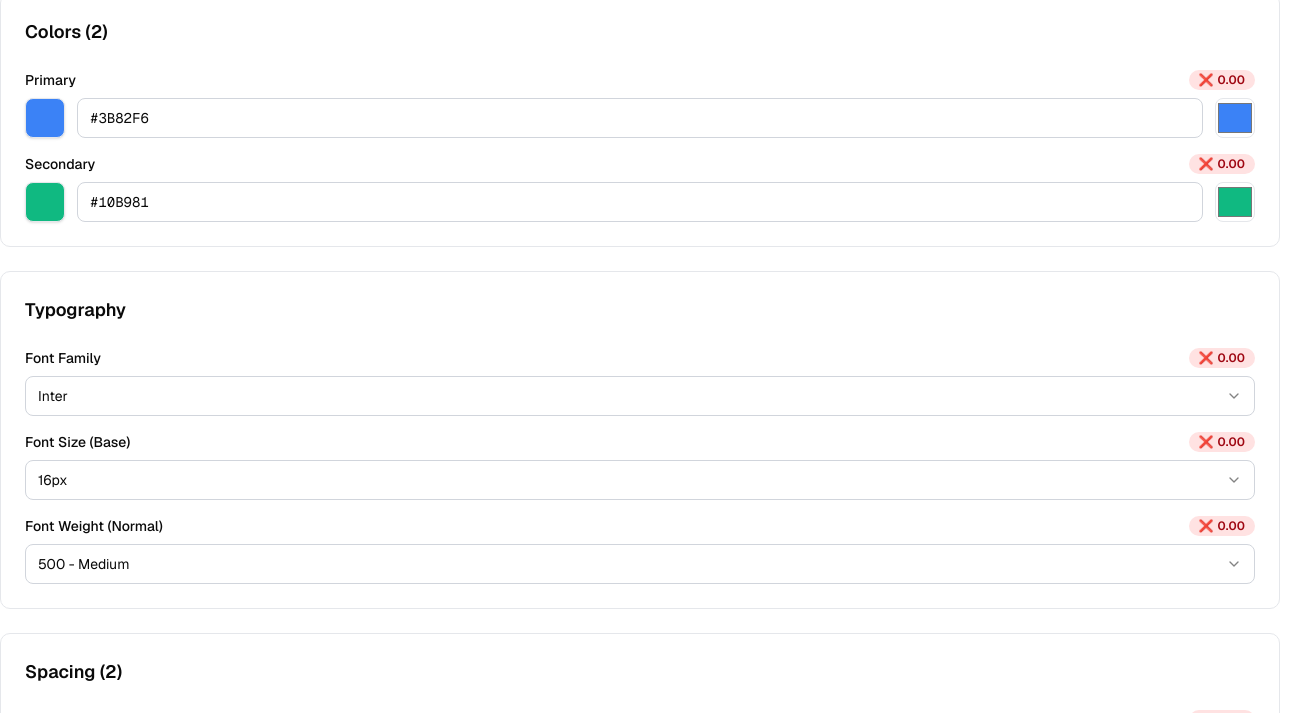
TokenEditor › Reset Functionality › reverts changes when reset clicked
Replace the text in the field labelled "Primary" with "#FF5733" at point(640, 118), box [77,98,1203,138]
(page scrolled)
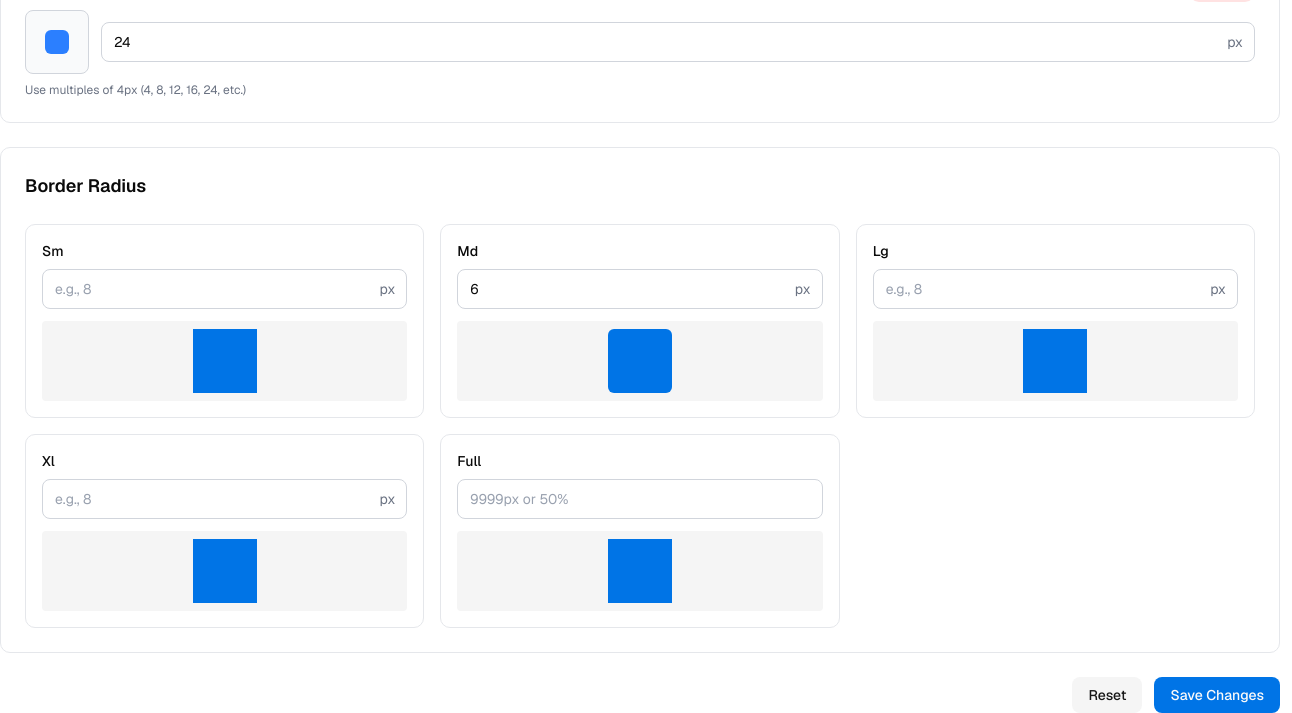
Note: Click reset
Click the button "Reset" at point(1107, 695), box [1072,677,1142,712]
(page scrolled)
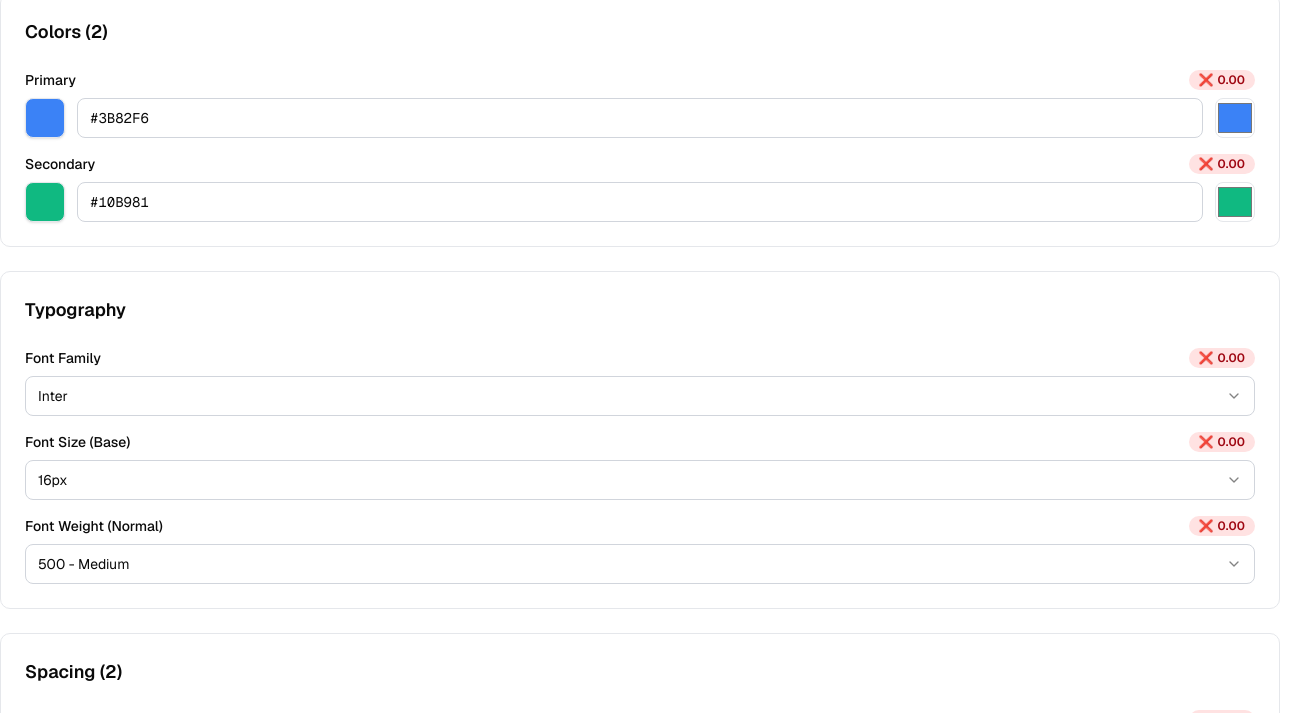
Now the field showing "#3B82F6" is shown, box [77,98,1203,138]
